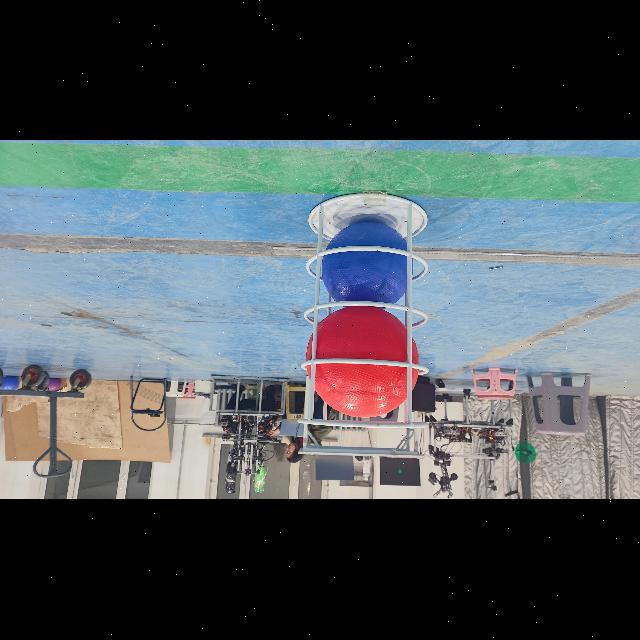B: (322, 222, 413, 308)
R: (304, 308, 420, 420)
S: (294, 184, 434, 432)
